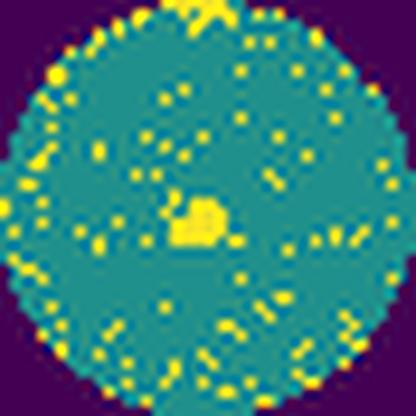Center: (160, 190, 232, 256)
